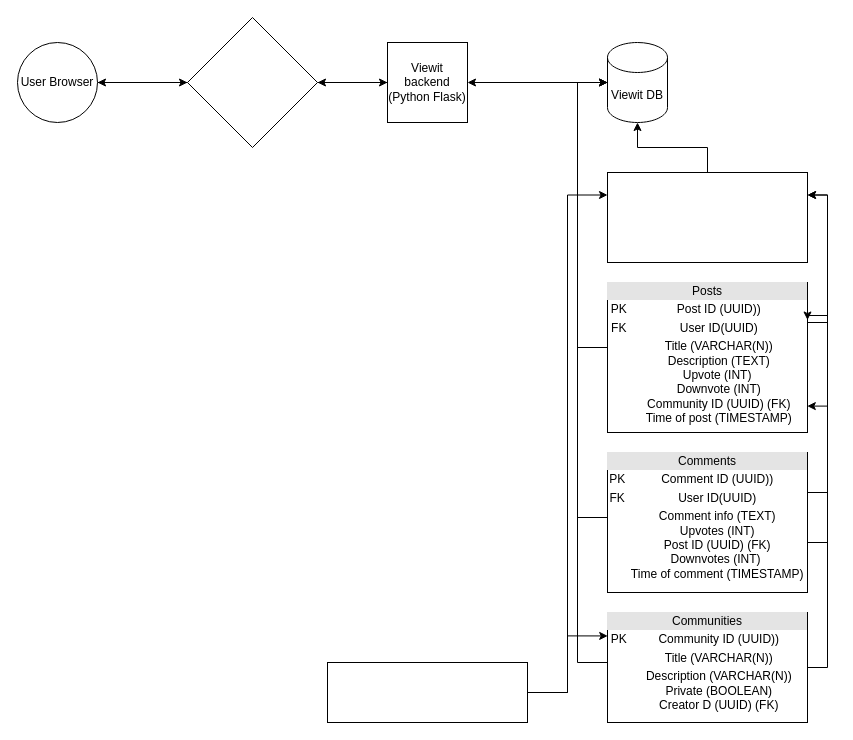
Some shapes in this 853 by 740 pixel diagram are drawn without their labels. Each missing label, with the centre of its shape:
Community members PK Community ID (UUID) (FK) User ID (UUID) (FK): the point at 427,692
User PK user ID (UUID)) Password hash (TEXT) Name (VARCHAR) Email (VARCHAR): the point at 707,217
Viewit frontend (TypeScript/ React): the point at 252,82
